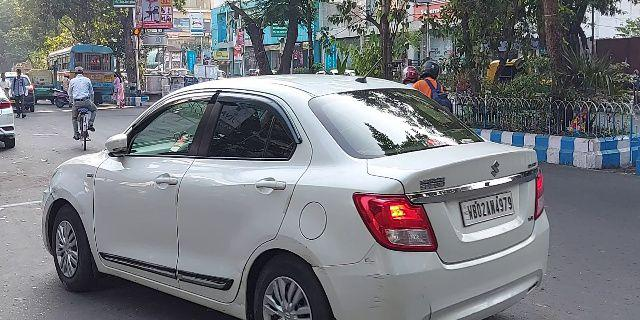Autorickshaw: (25, 66, 54, 106)
Bus: (46, 44, 118, 108)
Car: (43, 72, 552, 320)
Cycle: (62, 66, 100, 151)
